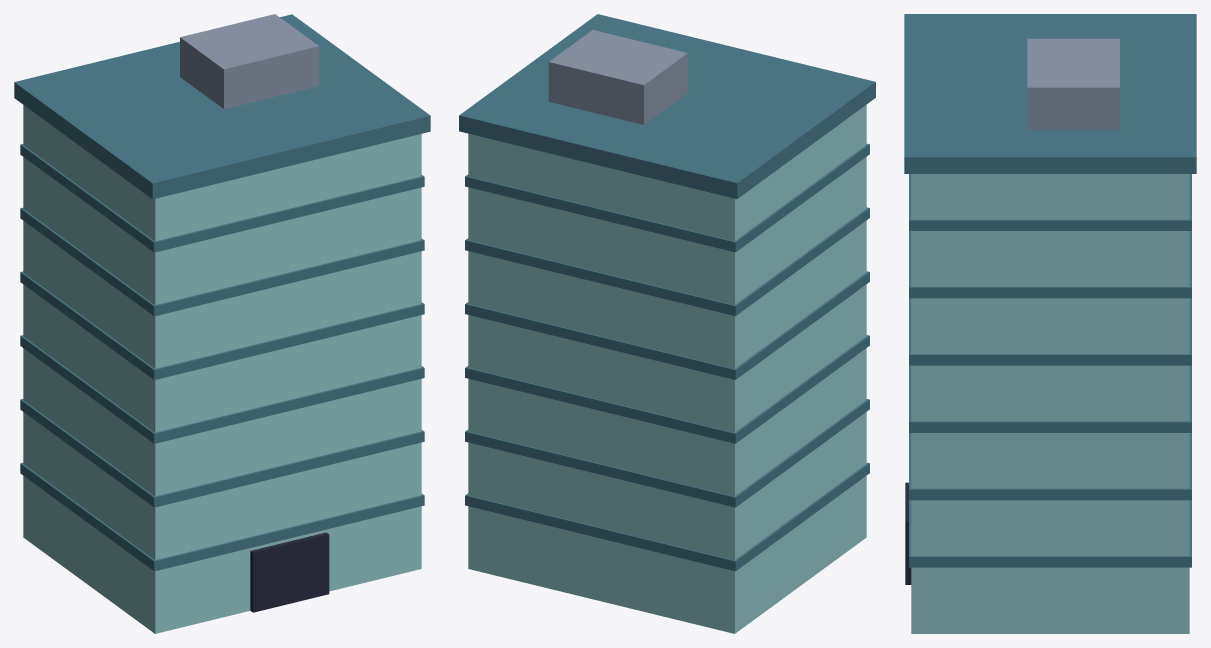
File: office.glb
3 renders of one model, left to right at view 1: azimuth 30°, elevation 25°; view 2: azimuth 150°, elevation 25°; view 3: azimuth 270°, elevation 25°, orthographic. The views are drawn at different scales.
Parts seen in each view (by area): view 1: office_glass, office_glass_band, office_metal, office_black; view 2: office_glass, office_glass_band, office_metal; view 3: office_glass, office_glass_band, office_metal, office_black.
Boxes of the visible parts, bbox=[...] form: office_glass: bbox=[23, 105, 421, 633]; office_glass_band: bbox=[14, 14, 430, 571]; office_metal: bbox=[180, 14, 319, 108]; office_black: bbox=[250, 532, 329, 612]; office_glass: bbox=[468, 105, 866, 633]; office_glass_band: bbox=[459, 14, 875, 571]; office_metal: bbox=[548, 30, 687, 124]; office_glass: bbox=[911, 174, 1189, 633]; office_glass_band: bbox=[904, 14, 1196, 567]; office_metal: bbox=[1027, 38, 1119, 129]; office_black: bbox=[905, 482, 911, 584].
Size of the model in its own units: 14.6 by 24.8 by 12.6.
